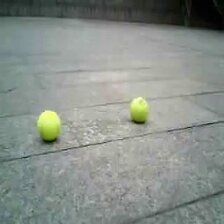tennis: (37, 112, 60, 140), (128, 97, 148, 120)
